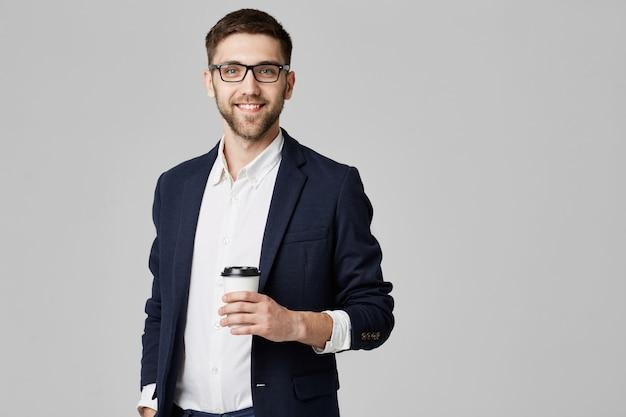face: (168, 2, 334, 229)
